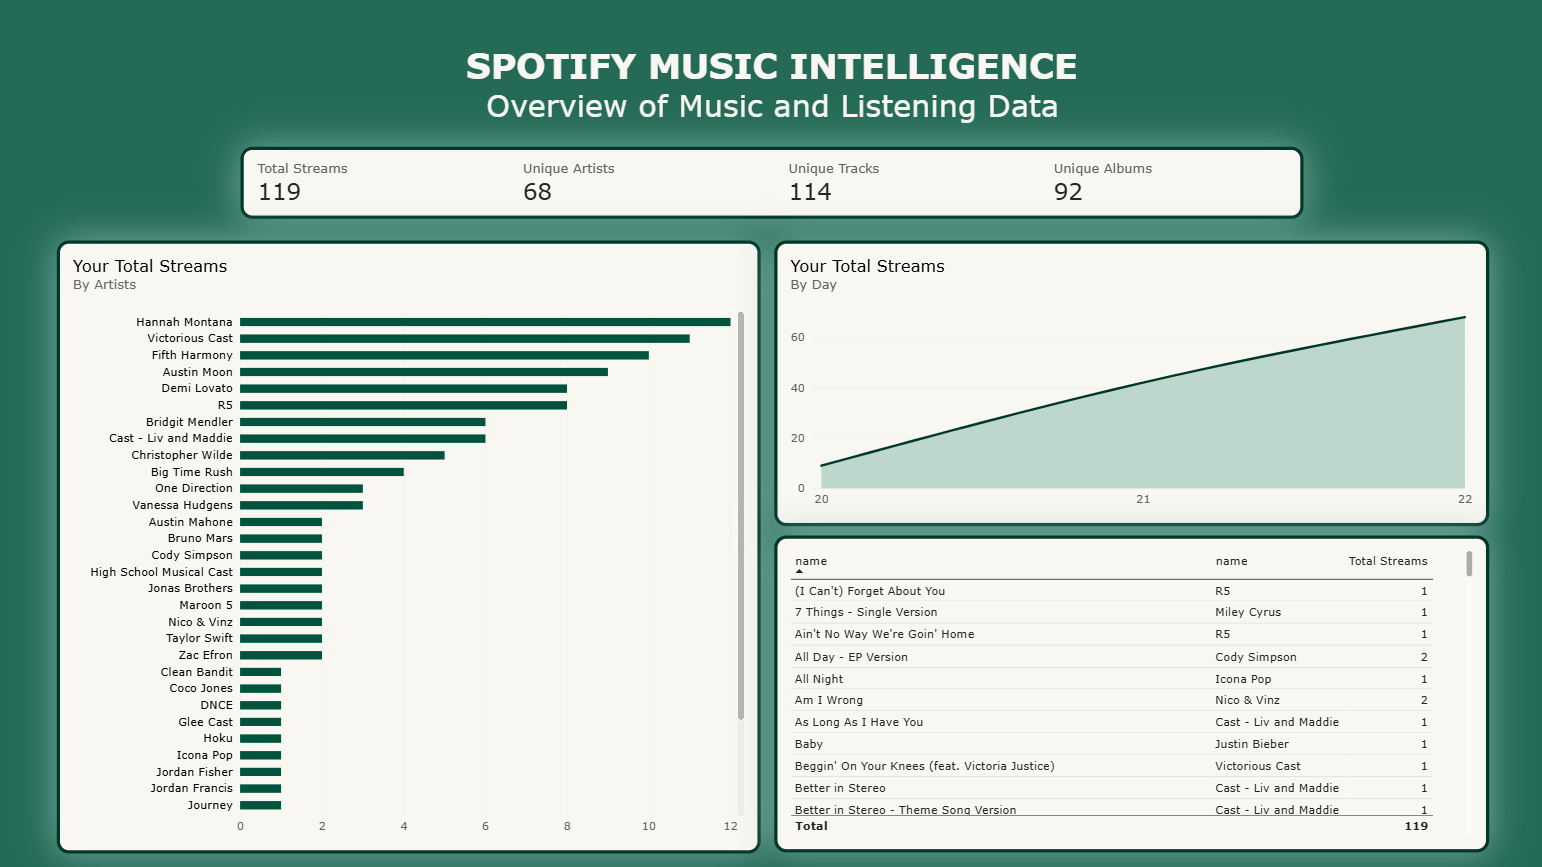

Layout of this report page (visuals, bound fields, positions):
{"tool":"powerbi","page":{"name":"Spotify Overview","canvas":[1920,1080],"ordinal":0},"visuals":[{"type":"textbox","box":[432.6,57.6,1053.5,52.3],"z":0},{"type":"textbox","box":[469.2,109.9,982,57.6],"z":1000},{"type":"cardVisual","fields":{"Data":["public listening_history.Total Streams","public albums.Unique Artists","public albums.Unique Tracks","public albums.Unique Albums"]},"box":[305.2,183.1,1309.9,89],"z":2000},{"type":"barChart","title":"Your Total Streams","fields":{"Category":["public artists.name"],"Y":["public listening_history.Total Streams"]},"box":[78.5,298.3,866.9,755.2],"z":3000},{"type":"lineChart","title":"Your Total Streams","fields":{"Category":["public listening_history.played_at.Variation.Date Hierarchy.Day"],"Y":["public listening_history.Total Streams"]},"box":[962.8,298.3,880.8,352.3],"z":4000},{"type":"tableEx","fields":{"Values":["public tracks.name","public artists.name","public listening_history.Total Streams"]},"box":[962.8,662.8,880.8,390.7],"z":5000}]}

Visuals, with their boxes in screenshot pixels (x1, y1, x2, y2), scaled from the page's 1920x1080 canvas onto the 1542x867 screenshot:
textbox: 347, 46, 1194, 88
textbox: 377, 88, 1165, 134
cardVisual - public listening_history.Total Streams x public albums.Unique Artists: 245, 147, 1297, 218
"Your Total Streams" barChart: 63, 239, 759, 846
"Your Total Streams" lineChart: 773, 239, 1481, 522
tableEx - public tracks.name x public artists.name: 773, 532, 1481, 846
